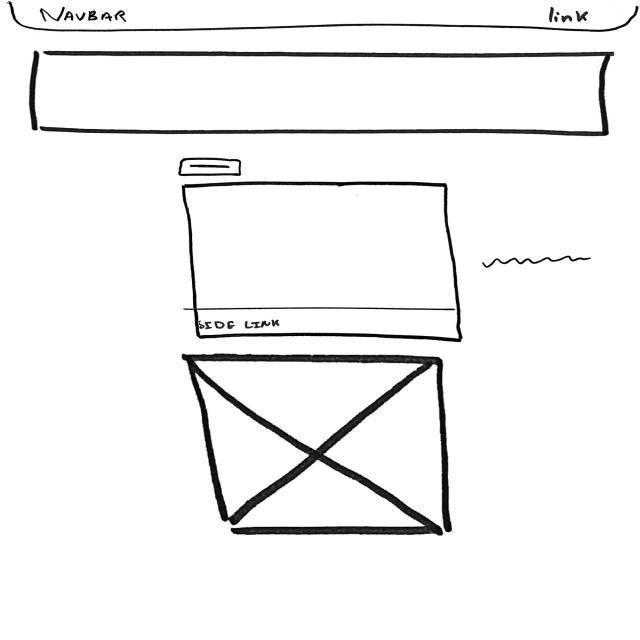container: (26, 47, 617, 138), (181, 183, 465, 345), (8, 1, 640, 33)
icon-button: (179, 155, 245, 178)
image: (182, 351, 453, 536)
label: (41, 6, 129, 27), (197, 318, 283, 332), (546, 5, 594, 26)
text: (483, 255, 595, 271)
